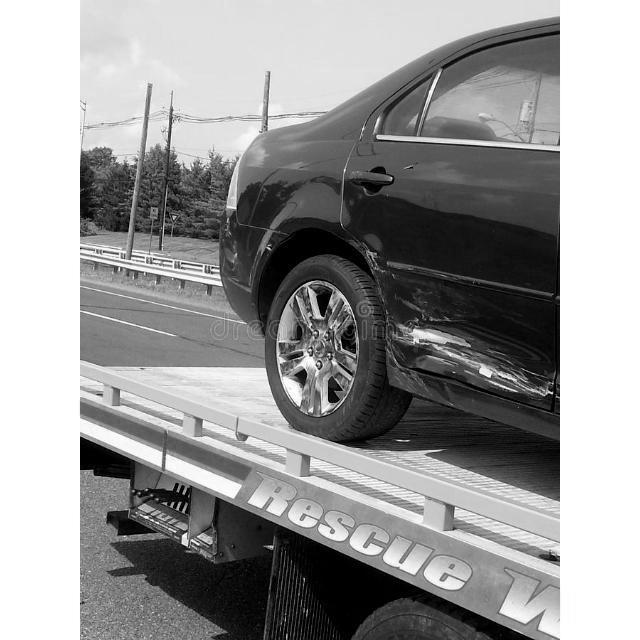doorouter-dent: (349, 141, 560, 423)
